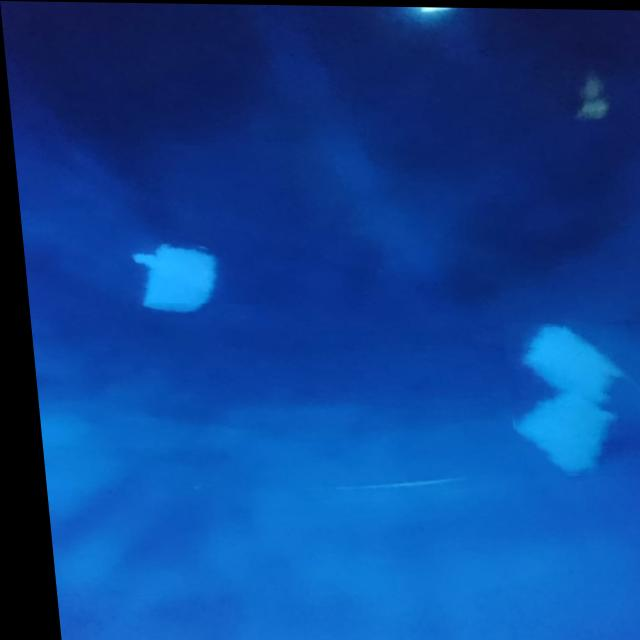litter: (497, 321, 640, 475), (111, 215, 254, 303)
